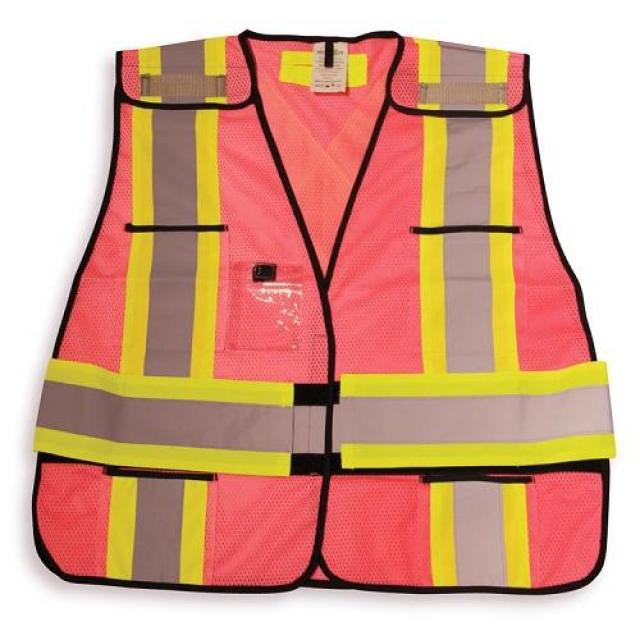Reflective-Jacket: (10, 15, 640, 608)
